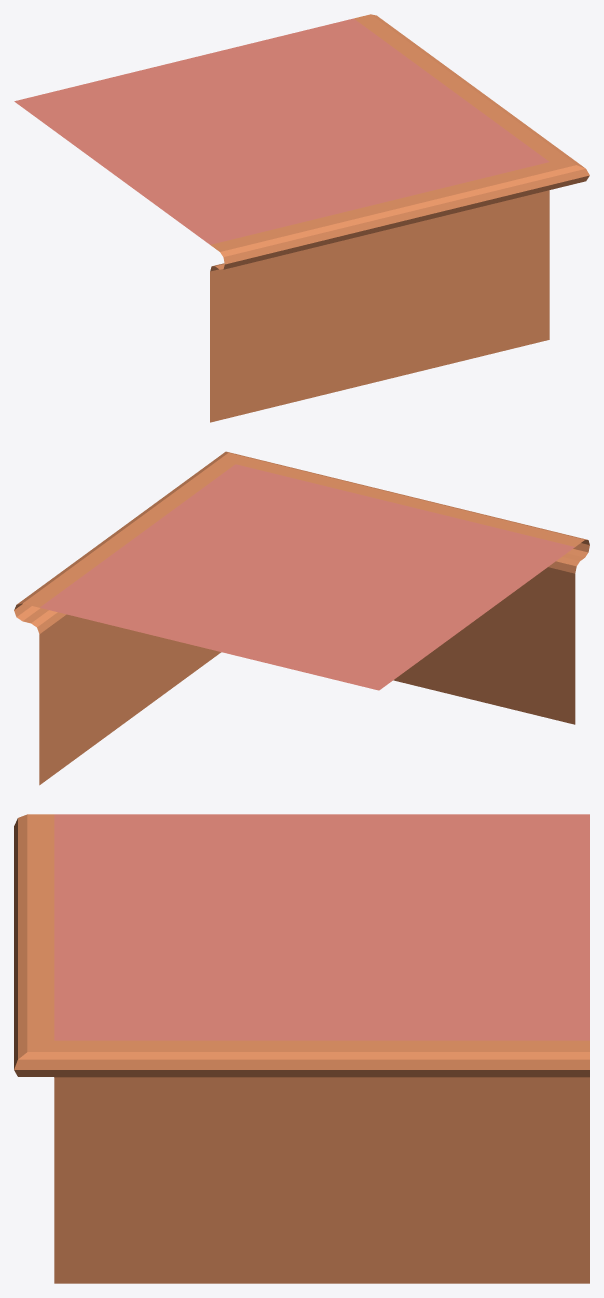
Rendered from Foundation_1_Corner_Outer.fbx.
3 views of the same model, one above another, from view 1: azimuth 30°, elevation 25°; view 2: azimuth 150°, elevation 25°; view 3: azimuth 270°, elevation 25° (orthographic). The views are drawn at different scales.
Visible parts, largest first — view 1: Foundation_1_Corner_Outer; view 2: Foundation_1_Corner_Outer; view 3: Foundation_1_Corner_Outer.
Part boxes in pixels (x1=…): Foundation_1_Corner_Outer: x1=14, y1=14, x2=589, y2=422; Foundation_1_Corner_Outer: x1=14, y1=451, x2=589, y2=785; Foundation_1_Corner_Outer: x1=14, y1=814, x2=589, y2=1283.
Size of the model in its own units: 215 by 100 by 215.
